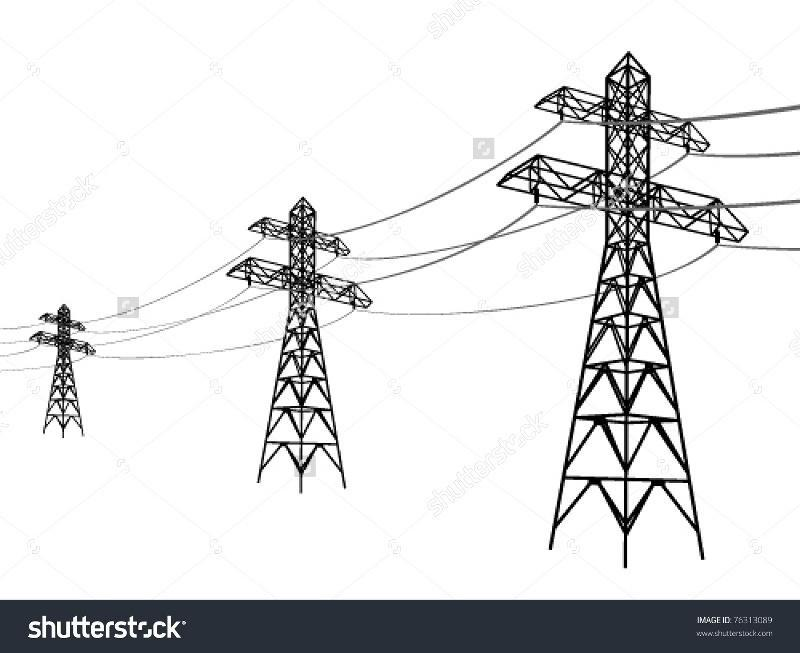power_tower: (496, 52, 748, 570), (227, 198, 372, 494), (30, 303, 96, 436)
